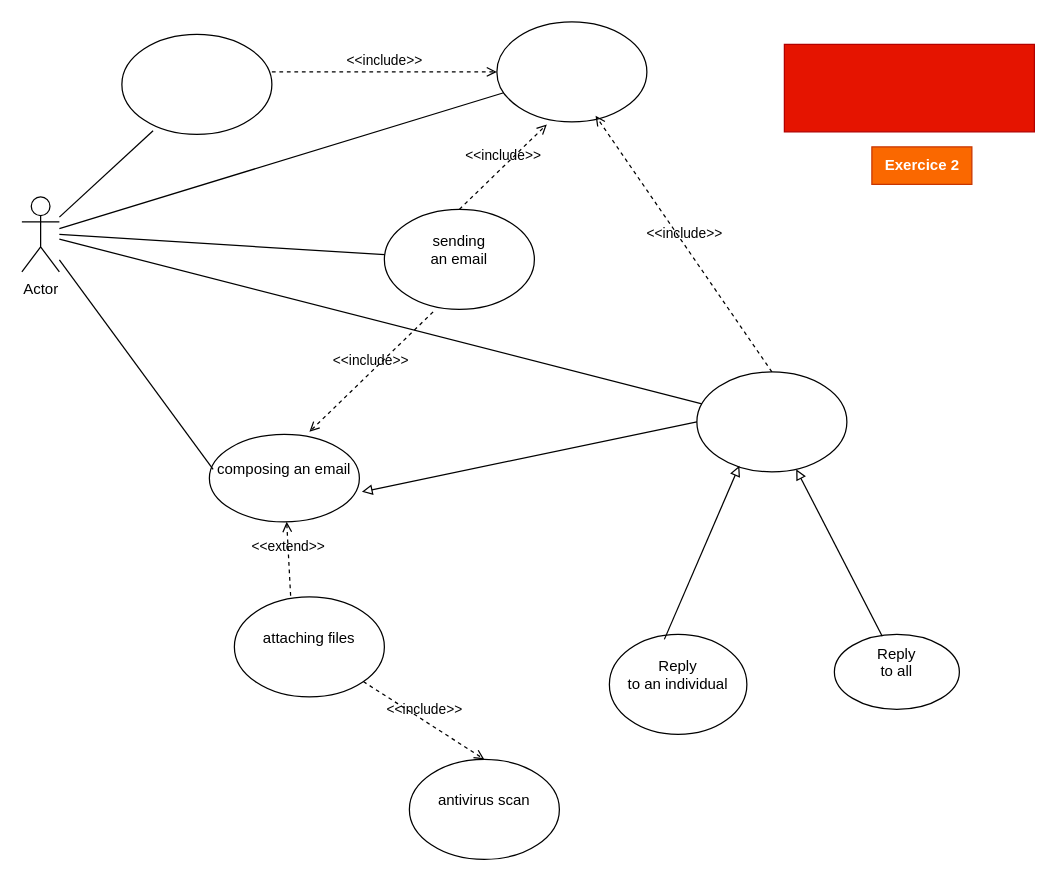
This 1056x881 diagram has some shape labels left out. The shapes that lost their labels are listed below. From the top down, each one's centre as x and y in pixels, then its label:
At (196,83): "forwarding an email".
At (571,71): "selecting recipients".
At (908,87): "Messaging System".
At (771,421): "replying to an email".
